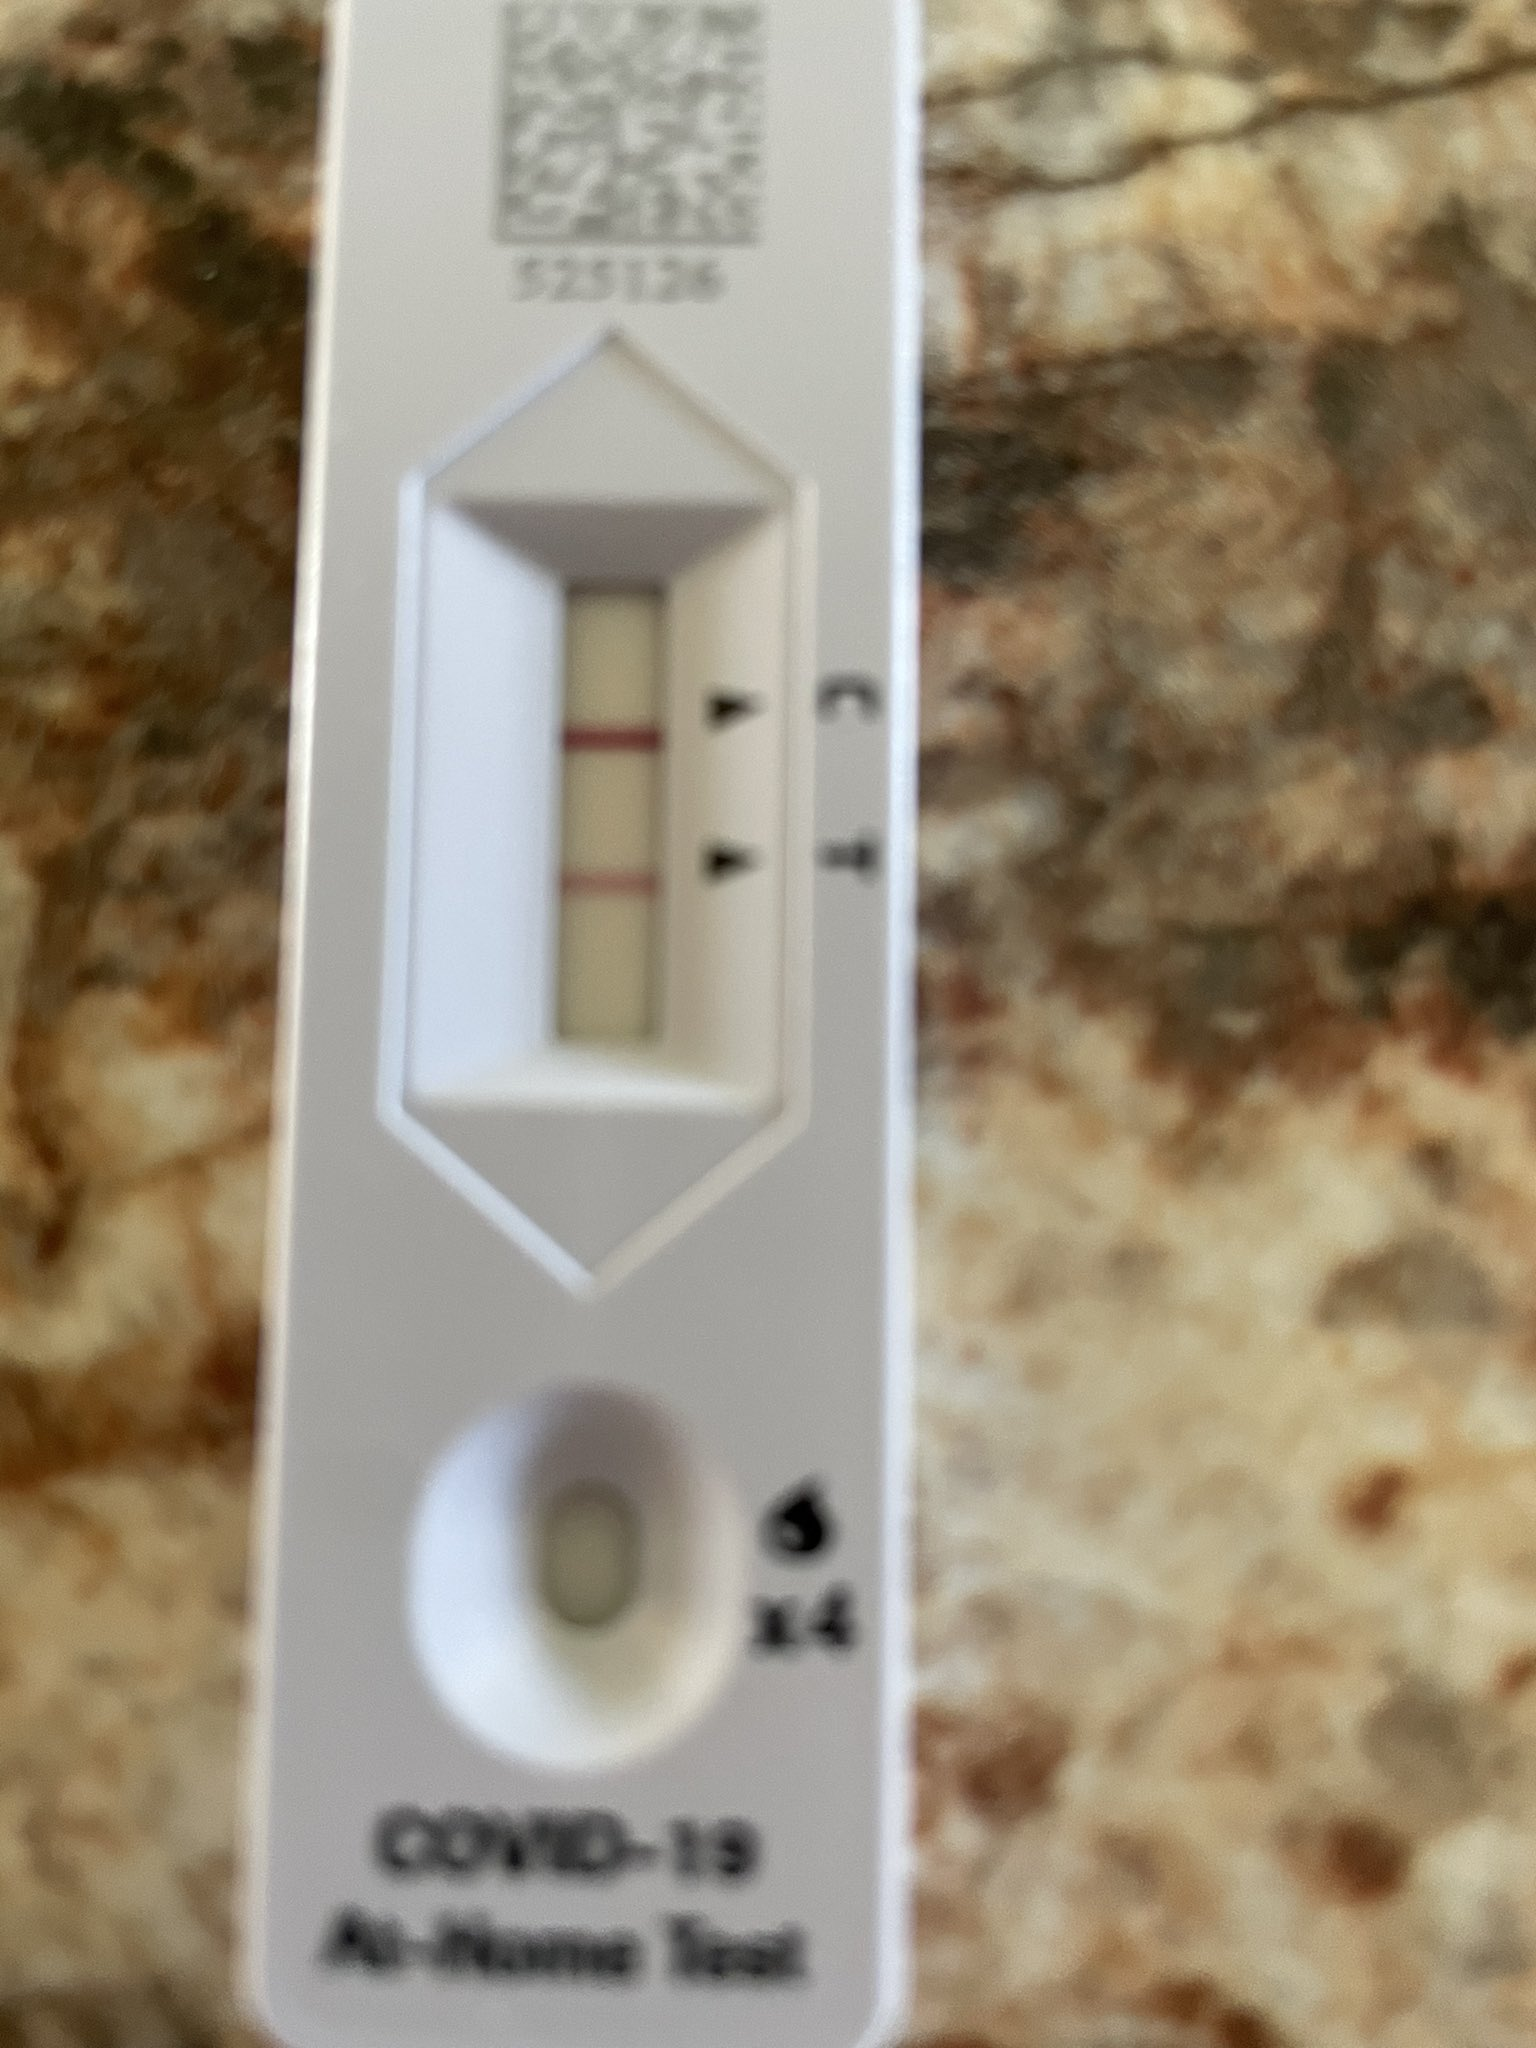positive: (408, 461, 781, 1179)
